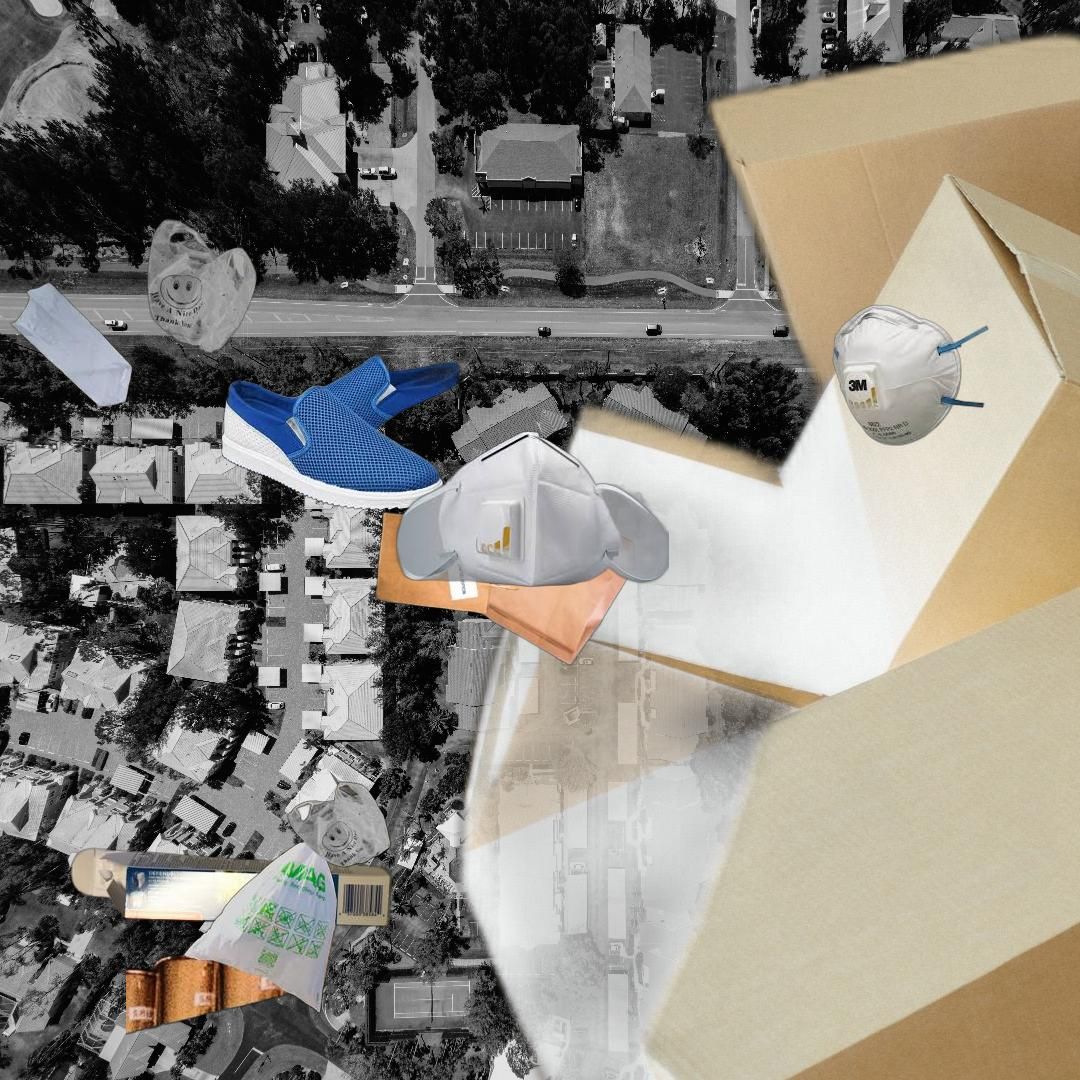paper: (67, 845, 396, 929)
paper-bag: (373, 493, 638, 667)
plastic-bag: (126, 778, 394, 1037), (8, 216, 260, 410)
shoes: (219, 349, 470, 513)
trash: (394, 428, 669, 590), (830, 302, 991, 449)
trashbox-cardboard: (285, 9, 1080, 1080)
